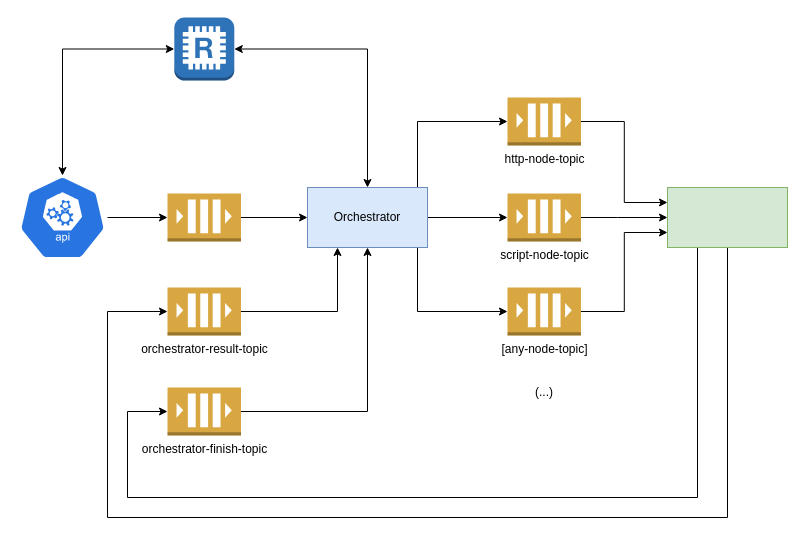
Image size: 805x543. Some labels were removed from this diagram. The shapes that lost their labels are listed below. From the top down, each one's centre as x and y in pixels, then its label:
At [203,217]: "orchestrator-start-topic".
At [727,217]: "Flowbuild-v2-nodes".
